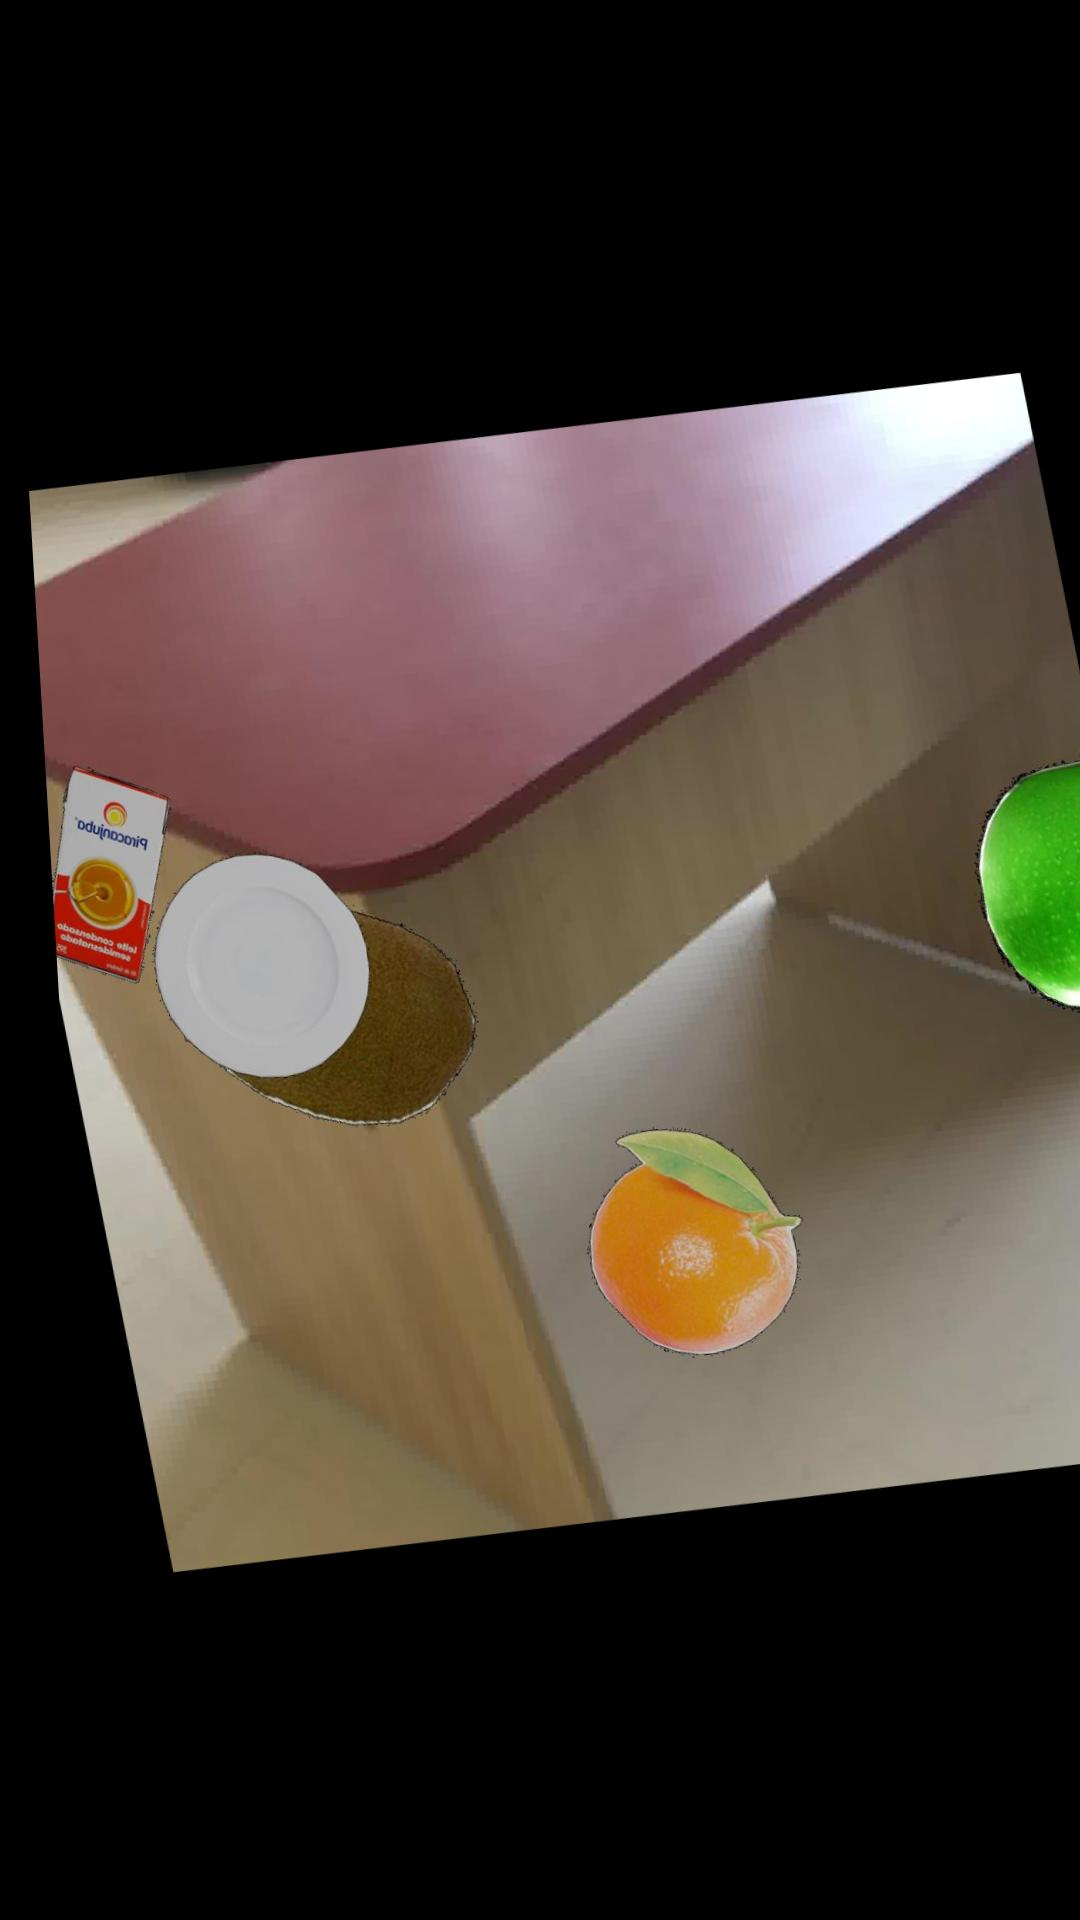green apple: (964, 754, 1080, 1007)
kiwi: (211, 910, 464, 1125)
orange: (575, 1127, 789, 1353)
plate: (142, 853, 359, 1077)
